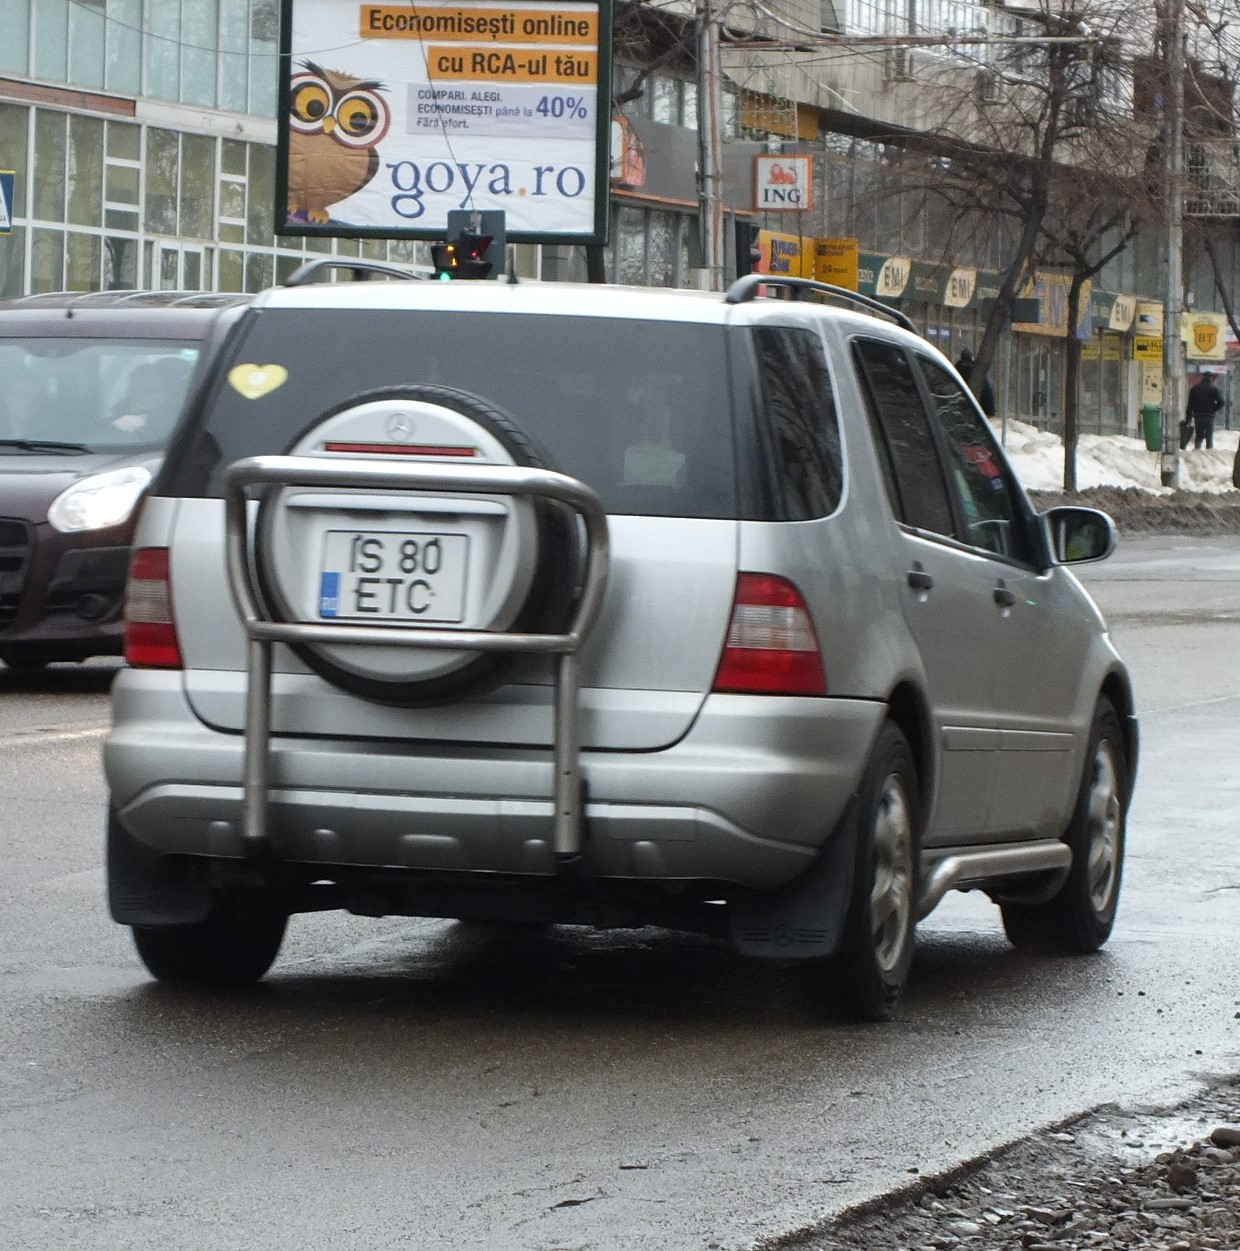IS80ETC: (319, 529, 467, 619)
